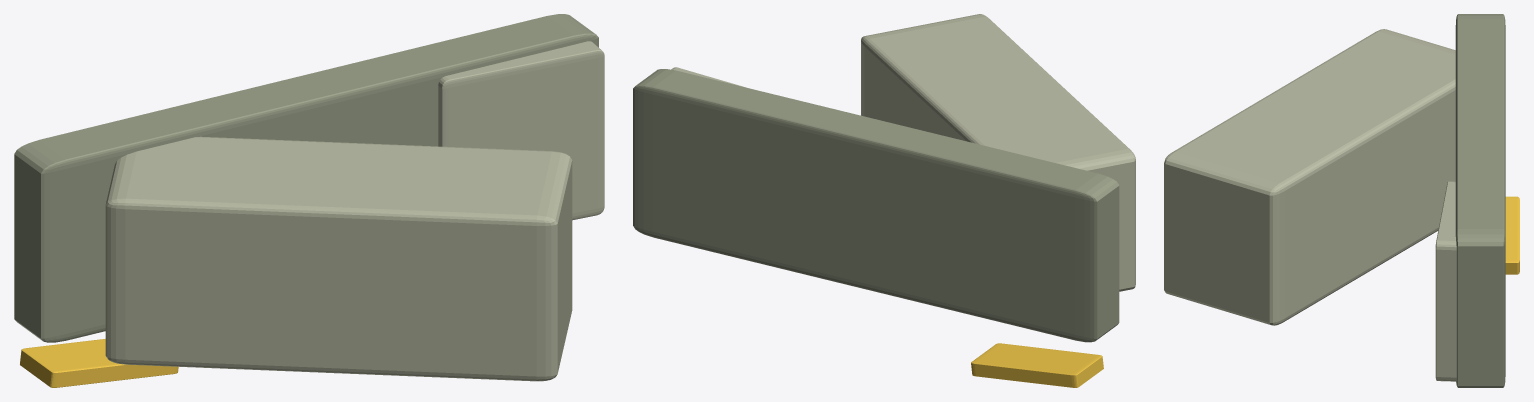
Rendered from v-x05-vanguard-strategic-lod2.glb.
The picture shows the model from 3 angles, left to right: view 1: azimuth 30°, elevation 25°; view 2: azimuth 150°, elevation 25°; view 3: azimuth 270°, elevation 25°; orthographic projection. The views are drawn at different scales.
Parts seen in each view (by area): view 1: strategic_canister, strategic_lower, strategic_nose, strategic_jack_-1; view 2: strategic_lower, strategic_canister, strategic_jack_-1; view 3: strategic_canister, strategic_lower, strategic_nose, strategic_jack_-1.
Part boxes in pixels (box(x1,y1,x2,y2)): strategic_canister: box(105, 136, 572, 381); strategic_lower: box(14, 14, 598, 342); strategic_nose: box(438, 41, 604, 220); strategic_jack_-1: box(20, 339, 178, 387); strategic_lower: box(633, 69, 1119, 342); strategic_canister: box(861, 14, 1135, 291); strategic_jack_-1: box(971, 343, 1103, 387); strategic_canister: box(1164, 29, 1455, 325); strategic_lower: box(1455, 14, 1505, 387); strategic_nose: box(1435, 181, 1456, 381); strategic_jack_-1: box(1505, 196, 1519, 274).
Size of what is drawn, in the model's own units: 11.15 by 4.68 by 7.28.
